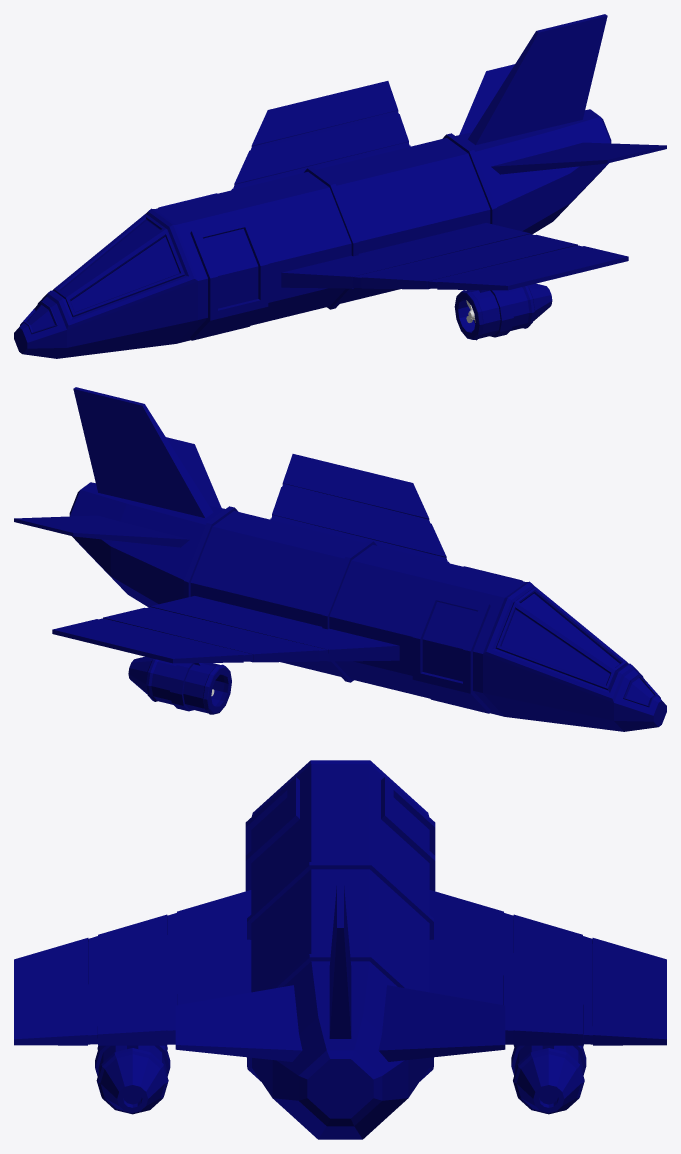
File: tank_blue_2.glb
3 views of the same model, one above another, from view 1: azimuth 30°, elevation 25°; view 2: azimuth 150°, elevation 25°; view 3: azimuth 270°, elevation 25° (orthographic). The views are drawn at different scales.
Parts seen in each view (by area): view 1: Cube.002; view 2: Cube.002; view 3: Cube.002.
Part boxes in pixels (x1,y1,x2,y2): Cube.002: (14, 14, 666, 358); Cube.002: (14, 387, 666, 731); Cube.002: (14, 760, 666, 1139).
Bounding box in the file's own units: 1 × 0.3546 × 0.7105.
